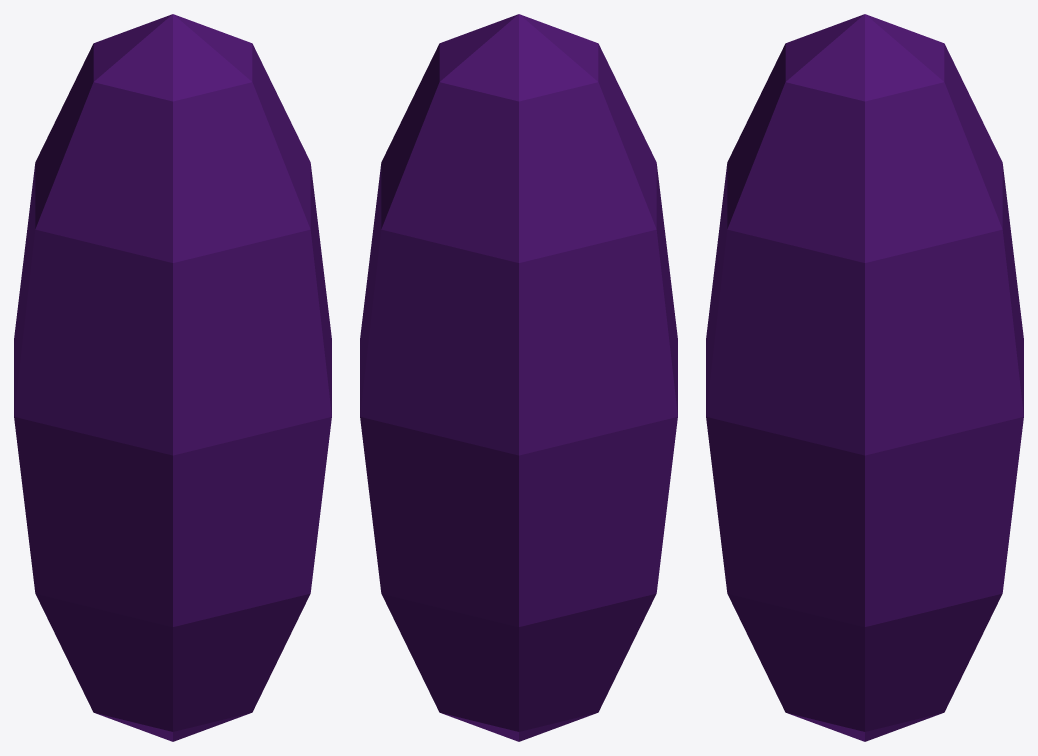
Rendered from Enemy_Ranged.fbx.
The picture shows the model from 3 angles, left to right: view 1: azimuth 30°, elevation 25°; view 2: azimuth 150°, elevation 25°; view 3: azimuth 270°, elevation 25°; orthographic projection.
Parts seen in each view (by area): view 1: pSphere3; view 2: pSphere3; view 3: pSphere3.
Boxes of the visible parts, x1,y1,x2,y2 form: pSphere3: (14,14,331,741); pSphere3: (360,14,677,741); pSphere3: (706,14,1023,741).
Bounding box in the file's own units: 0.6801 × 1.49 × 0.5889.
